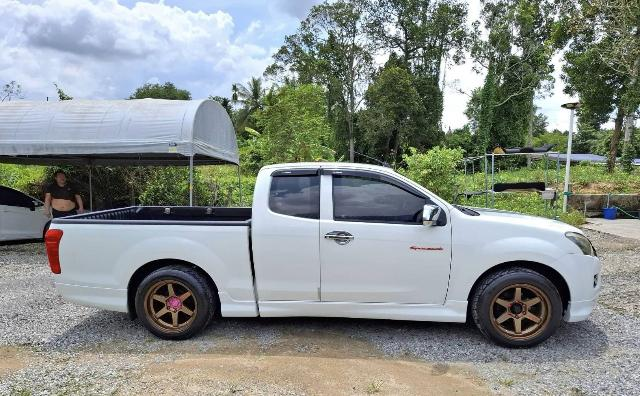pickup-truck: (41, 155, 609, 360)
